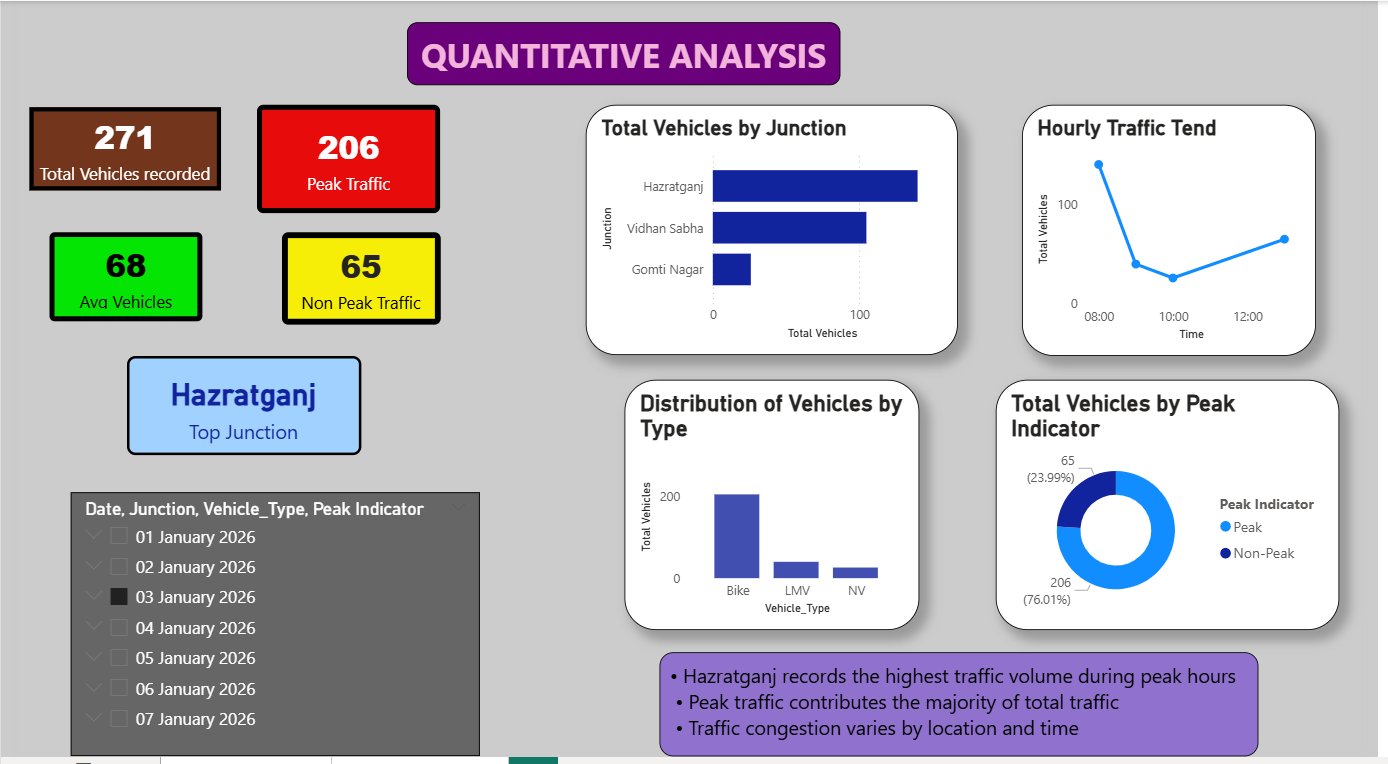

The page's visual inventory and layout, read from the dashboard file:
{"tool":"powerbi","page":{"name":"Traffic Dashboard","canvas":[1280,720],"ordinal":0},"visuals":[{"type":"card","fields":{"Values":["Junction_Master.Total Vehicles"]},"box":[12.3,101.5,182.3,79.5],"z":0},{"type":"card","fields":{"Values":["Junction_Master.Avg Vehicles"]},"box":[31.5,220.7,145.3,85],"z":1000},{"type":"card","fields":{"Values":["Junction_Master.Peak Traffic"]},"box":[228.9,99,174.3,103.4],"z":2000},{"type":"card","fields":{"Values":["Junction_Master.Non Peak Traffic"]},"box":[252.3,220.7,150.8,87.7],"z":3000},{"type":"clusteredBarChart","fields":{"Y":["Junction_Master.Total Vehicles"],"Category":["Junction_Master.Junction"]},"box":[541.7,98.8,354.8,238.1],"z":4000},{"type":"lineChart","title":"Hourly Traffic Tend","fields":{"Category":["Traffic_Data.Time"],"Y":["Junction_Master.Total Vehicles"]},"box":[957.1,98.8,279.8,239.3],"z":5000},{"type":"clusteredColumnChart","title":"Distribution of Vehicles by Type","fields":{"Category":["Traffic_Data.Vehicle_Type"],"Y":["Junction_Master.Total Vehicles"]},"box":[578.6,360.6,281.1,238.6],"z":6000},{"type":"donutChart","fields":{"Category":["Traffic_Data.Peak Indicator"],"Y":["Junction_Master.Total Vehicles"]},"box":[932.1,360.7,327.4,238.1],"z":7000},{"type":"slicer","fields":{"Values":["Traffic_Data.Date","Junction_Master.Junction","Traffic_Data.Vehicle_Type","Traffic_Data.Peak Indicator"]},"box":[51.7,468.2,389.9,251.1],"z":8000},{"type":"textbox","box":[371.6,20.6,412.7,60.3],"z":10000},{"type":"textbox","box":[611.5,620.4,570.1,99],"z":11000},{"type":"card","fields":{"Values":["Junction_Master.Top Junction"]},"box":[104.9,338.2,223,94.5],"z":12000}]}

Visuals, with their boxes in screenshot pixels (x1, y1, x2, y2), scaled from the page's 1280x720 canvas onto the 1388x764 screenshot:
card - Junction_Master.Total Vehicles: (13, 108, 211, 192)
card - Junction_Master.Avg Vehicles: (34, 234, 192, 324)
card - Junction_Master.Peak Traffic: (248, 105, 437, 215)
card - Junction_Master.Non Peak Traffic: (274, 234, 437, 327)
clusteredBarChart - Junction_Master.Total Vehicles x Junction_Master.Junction: (587, 105, 972, 357)
"Hourly Traffic Tend" lineChart: (1038, 105, 1341, 359)
"Distribution of Vehicles by Type" clusteredColumnChart: (627, 383, 932, 636)
donutChart - Traffic_Data.Peak Indicator x Junction_Master.Total Vehicles: (1011, 383, 1366, 635)
slicer - Traffic_Data.Date x Junction_Master.Junction: (56, 497, 479, 763)
textbox: (403, 22, 850, 86)
textbox: (663, 658, 1281, 763)
card - Junction_Master.Top Junction: (114, 359, 356, 459)
